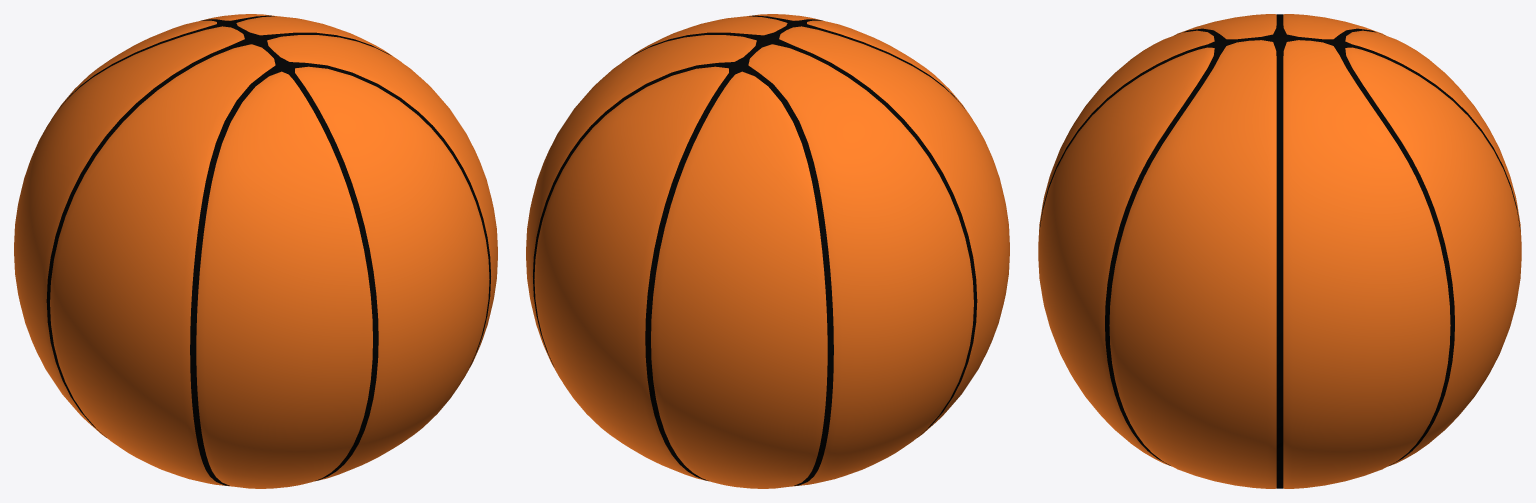
The model's file is Basketball.fbx.
The picture shows the model from 3 angles, left to right: view 1: azimuth 30°, elevation 25°; view 2: azimuth 150°, elevation 25°; view 3: azimuth 270°, elevation 25°; orthographic projection.
Visible parts, largest first — view 1: Baskatball; view 2: Baskatball; view 3: Baskatball.
Part boxes in pixels (x1,y1,x2,y2): Baskatball: (14, 14, 497, 488); Baskatball: (526, 14, 1009, 488); Baskatball: (1038, 14, 1521, 488).
Bounding box in the file's own units: 1.6 × 1.56 × 1.6.
